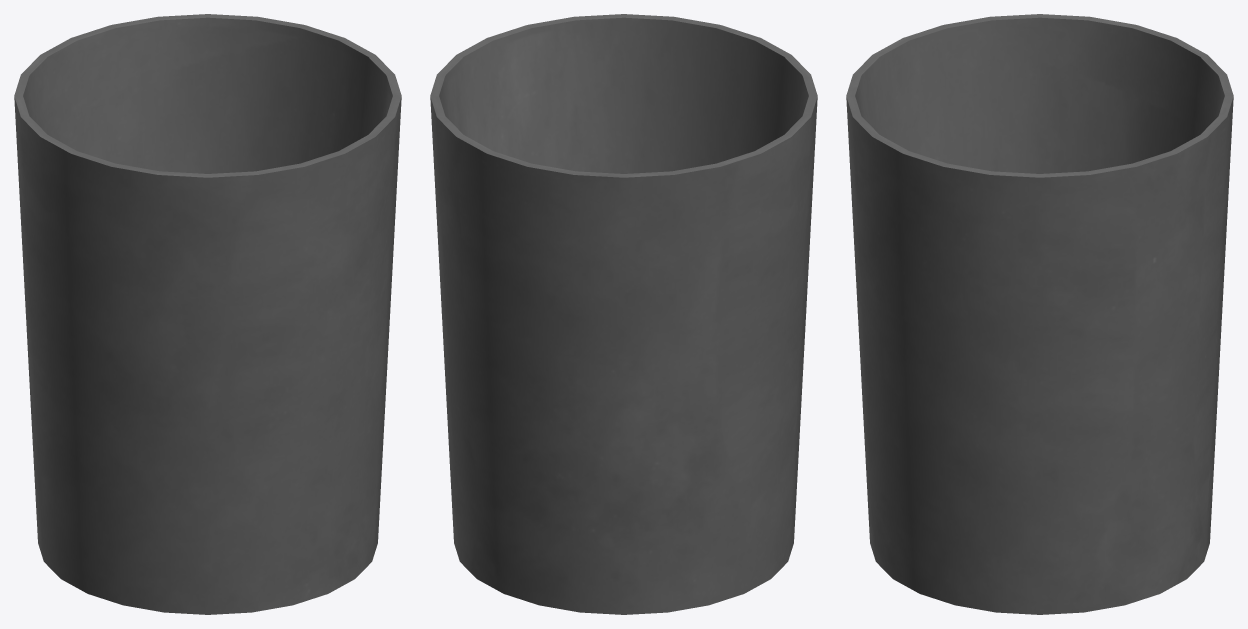
The model's file is rubbishBean.gltf.
3 views of the same model, side by side, from view 1: azimuth 30°, elevation 25°; view 2: azimuth 150°, elevation 25°; view 3: azimuth 270°, elevation 25° (orthographic).
Visible parts, largest first — view 1: rubbishBean; view 2: rubbishBean; view 3: rubbishBean.
Boxes of the visible parts, box(x1,y1,x2,y2) form: rubbishBean: box(14, 14, 401, 614); rubbishBean: box(430, 14, 817, 614); rubbishBean: box(846, 14, 1233, 614).
Size of the model in its own units: 0.2812 by 0.3582 by 0.2812.
1 material, 1 textured.
